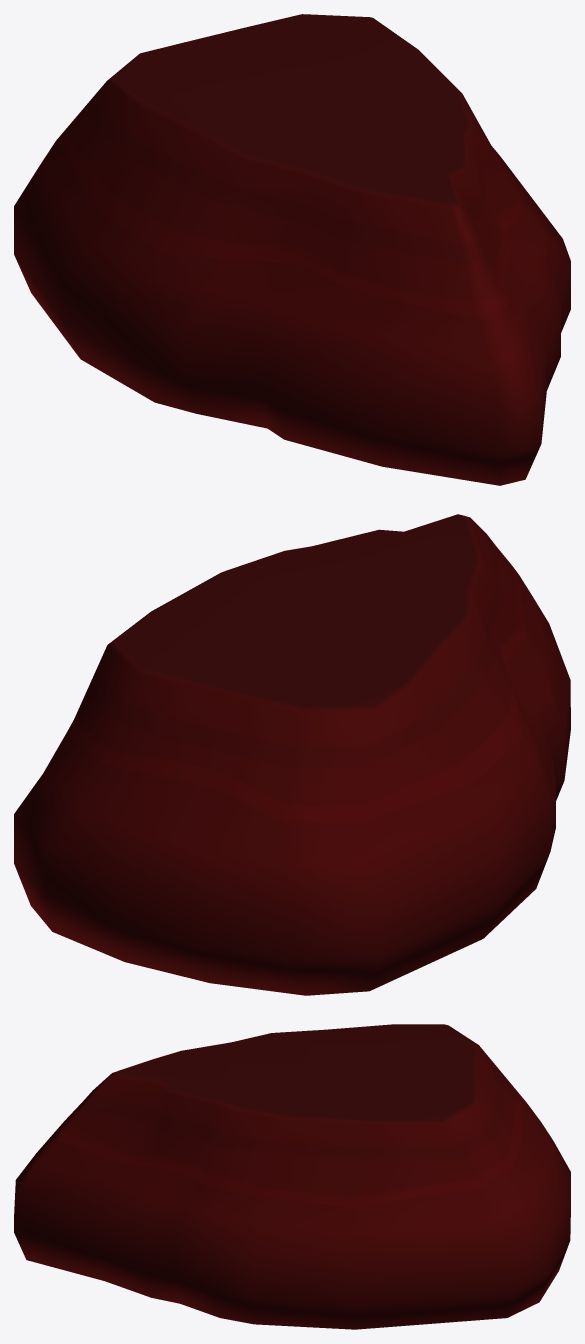
Rendered from geology-landforms-aliencliff_v4.fbx.
3 views of the same model, one above another, from view 1: azimuth 30°, elevation 25°; view 2: azimuth 150°, elevation 25°; view 3: azimuth 270°, elevation 25° (orthographic). The views are drawn at different scales.
Parts seen in each view (by area): view 1: AlienCliff_v4; view 2: AlienCliff_v4; view 3: AlienCliff_v4.
Boxes of the visible parts, x1,y1,x2,y2 form: AlienCliff_v4: (14, 14, 570, 485); AlienCliff_v4: (14, 514, 570, 995); AlienCliff_v4: (14, 1024, 570, 1329).
Size of the model in its own units: 54.5 by 28.86 by 79.56.
